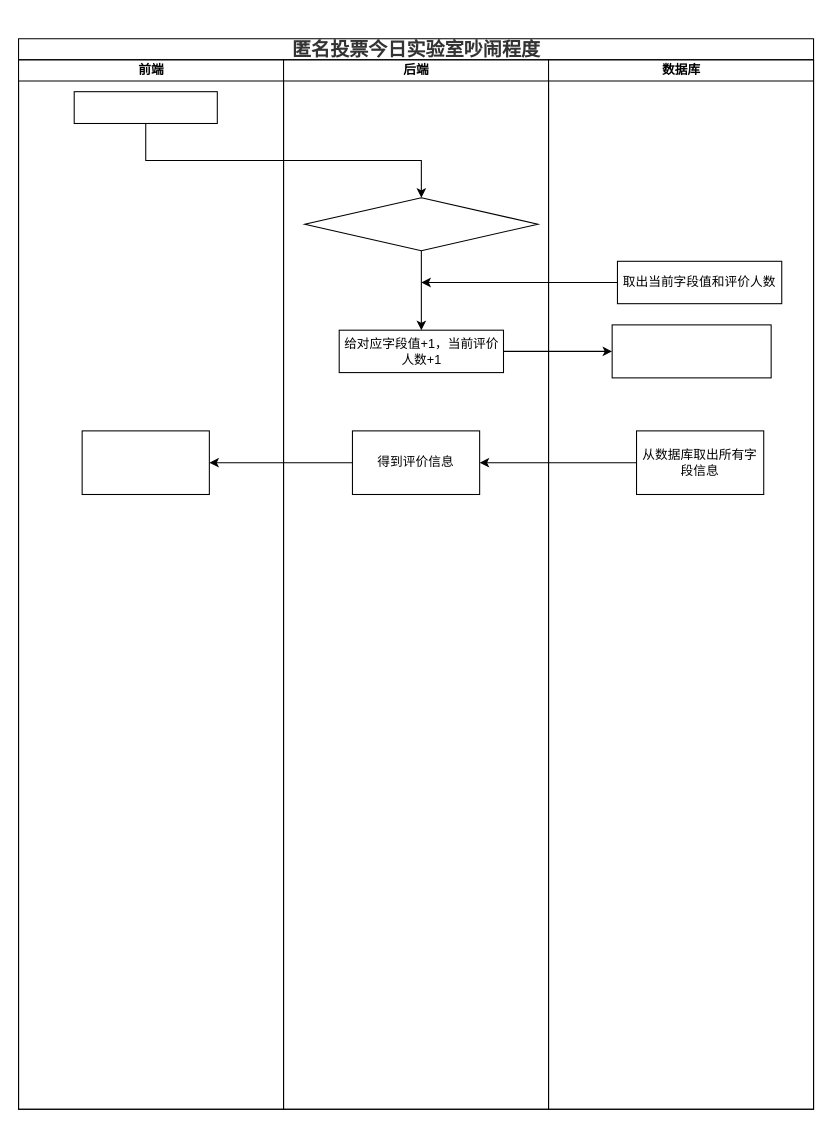
This 832x1128 diagram has some shape labels left out. Each missing label, with the centre of its shape:
"存入数据库" goes at pixel 691 351.
"对评价信息进行展示" goes at pixel 145 462.
"很吵or有点吵or正常or很安静" goes at pixel 421 224.
"接收用户数据" goes at pixel 145 107.
